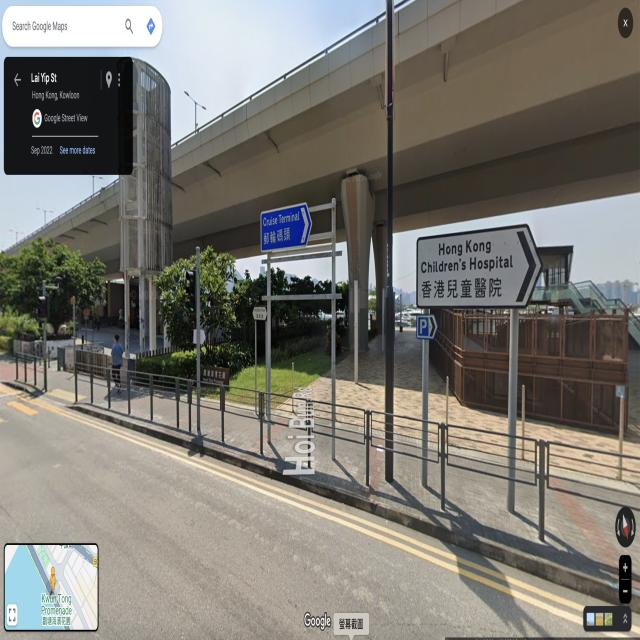Direction-Sign: (418, 225, 542, 307), (261, 202, 312, 252), (418, 316, 436, 337)
Street-Direction-Sign: (253, 307, 267, 319)
